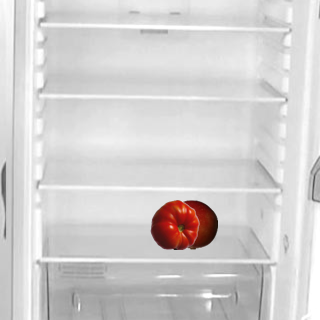Apple Braeburn: (167, 199, 217, 249)
Tomato 3: (149, 199, 199, 249)
